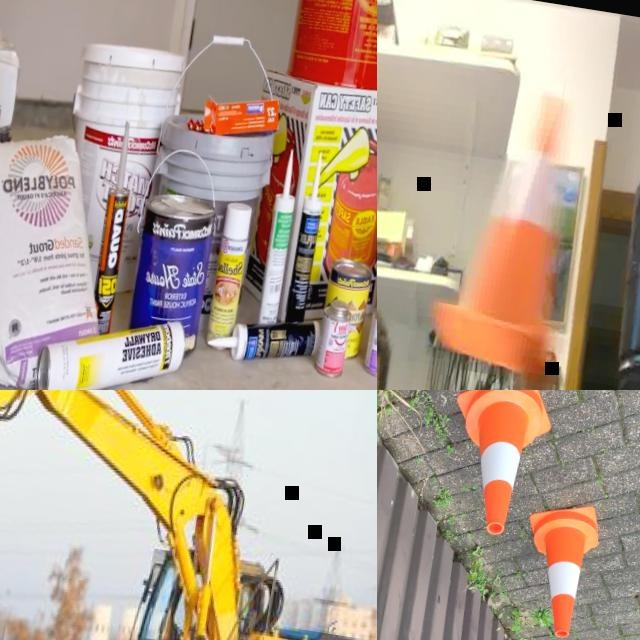NO-Hardhat: (377, 297, 396, 373)
Safety Cone: (420, 73, 594, 387), (434, 390, 566, 549), (512, 494, 608, 640)
machinery: (0, 390, 377, 640)
